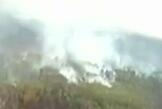yanwu: (1, 0, 160, 89)
